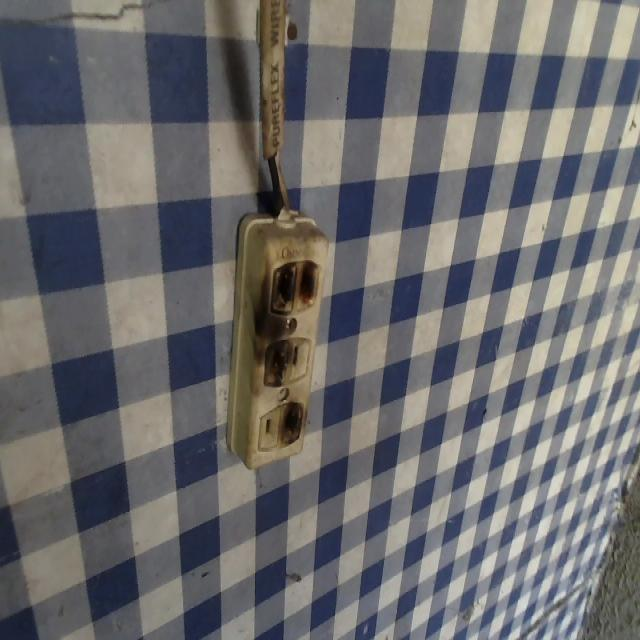-: (267, 258, 320, 310), (263, 334, 290, 386), (278, 400, 303, 443)
